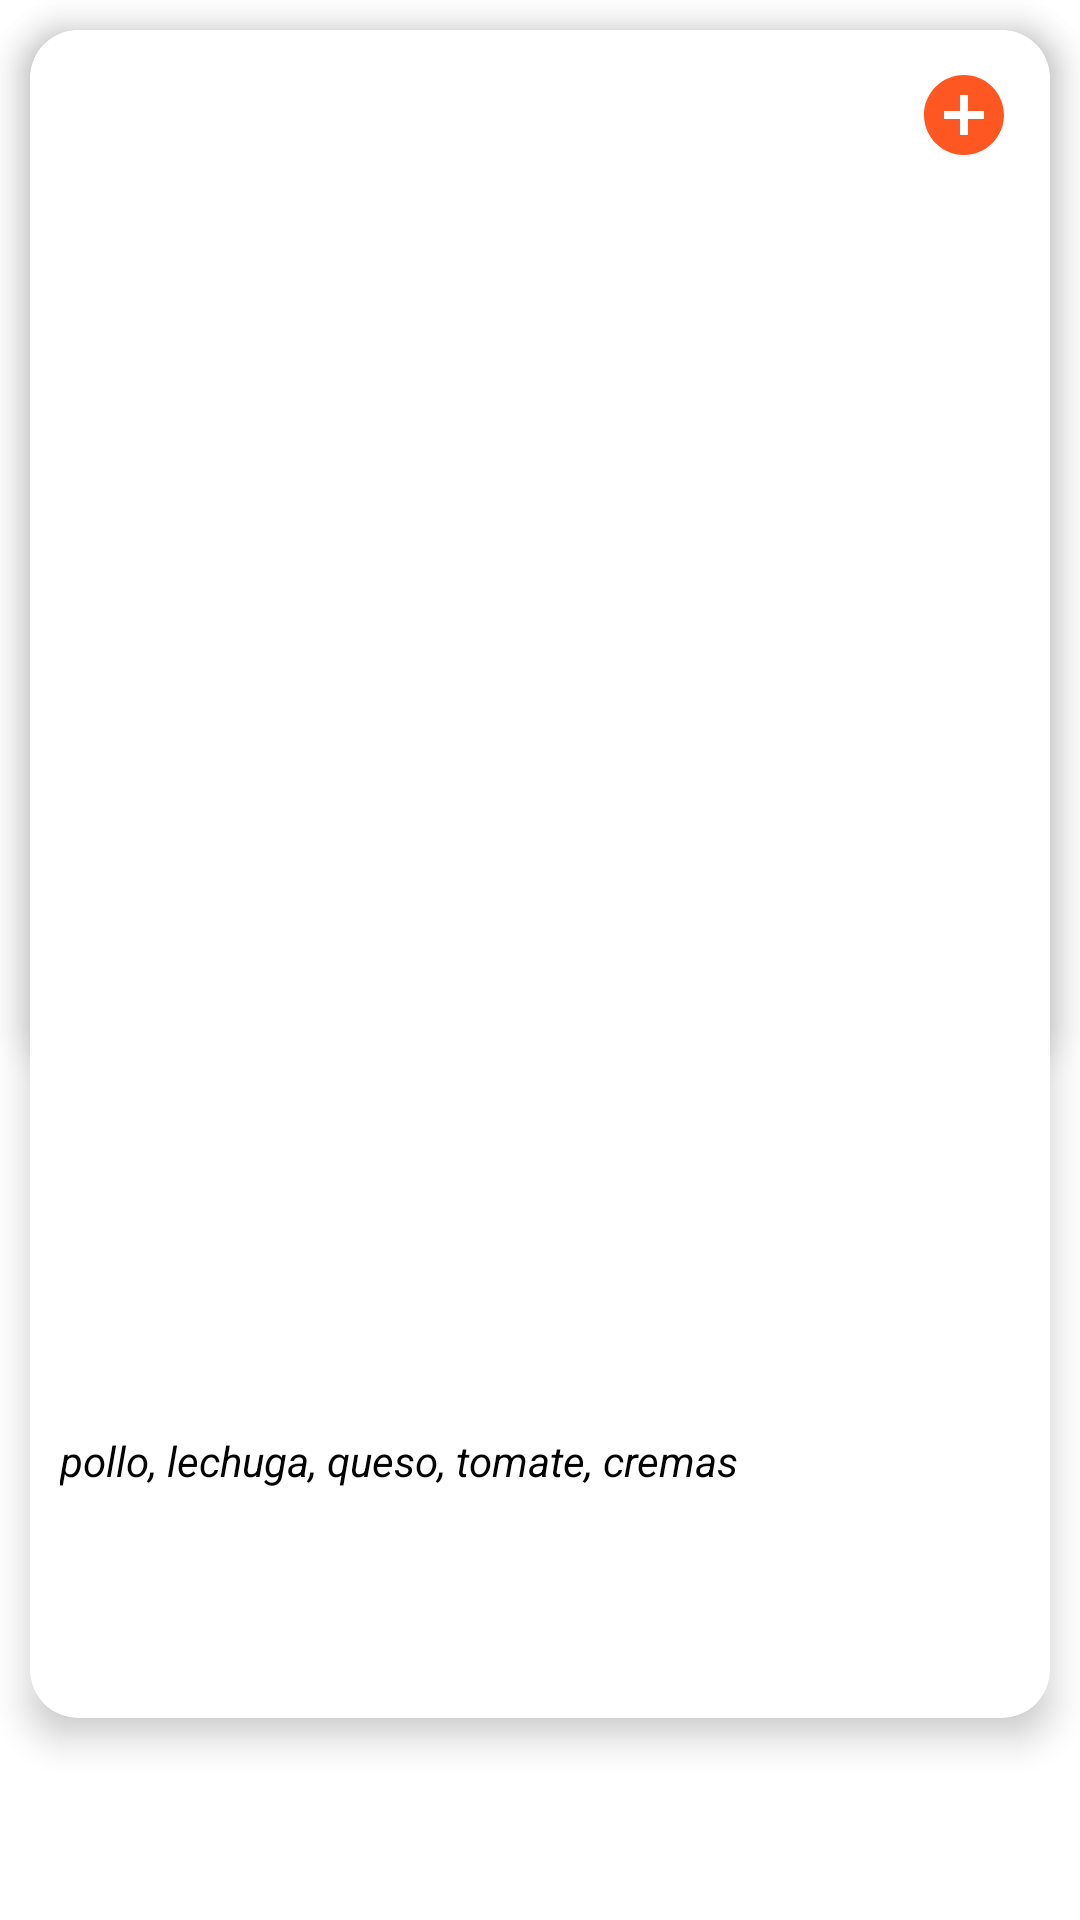

Icon click points for this 1080*1920 phone screenshot, format (x=x, y=y):
circle: (x=964, y=115)
